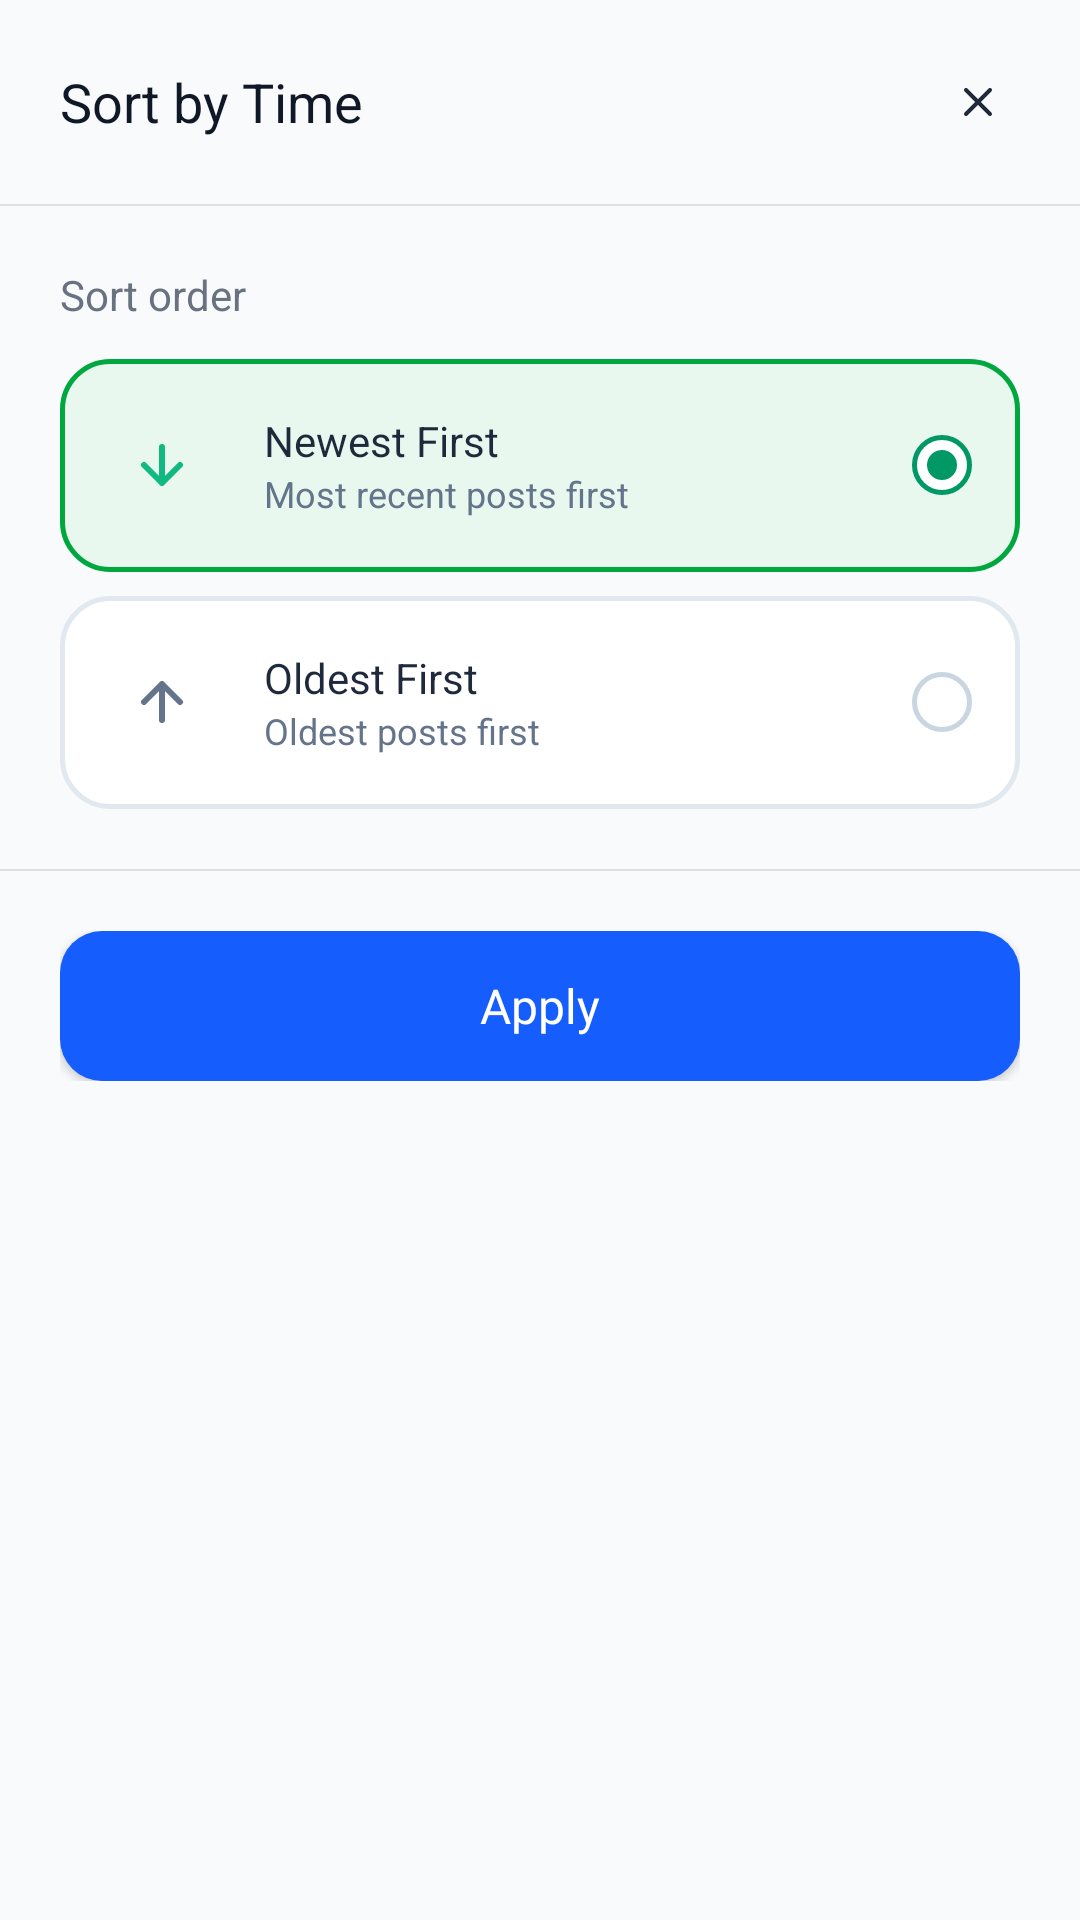

Screen size 1080 × 1920. Icon name, then its box in pixels as {"left": x1, "top": y1, "right": x2, "bottom": y2}:
Close: {"left": 964, "top": 88, "right": 992, "bottom": 116}
